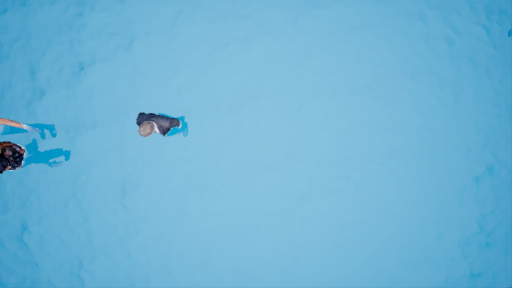person: (1, 139, 77, 179), (133, 102, 191, 146), (1, 114, 72, 142)
